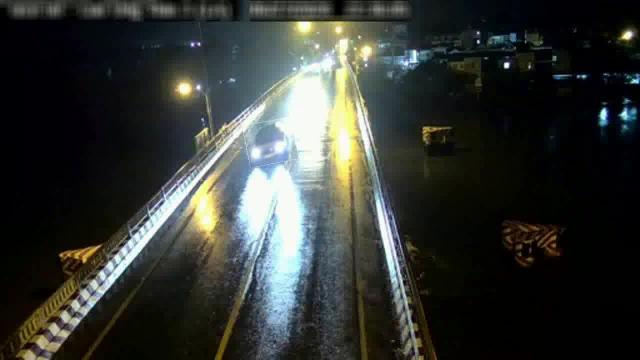Car: (244, 119, 296, 165)
